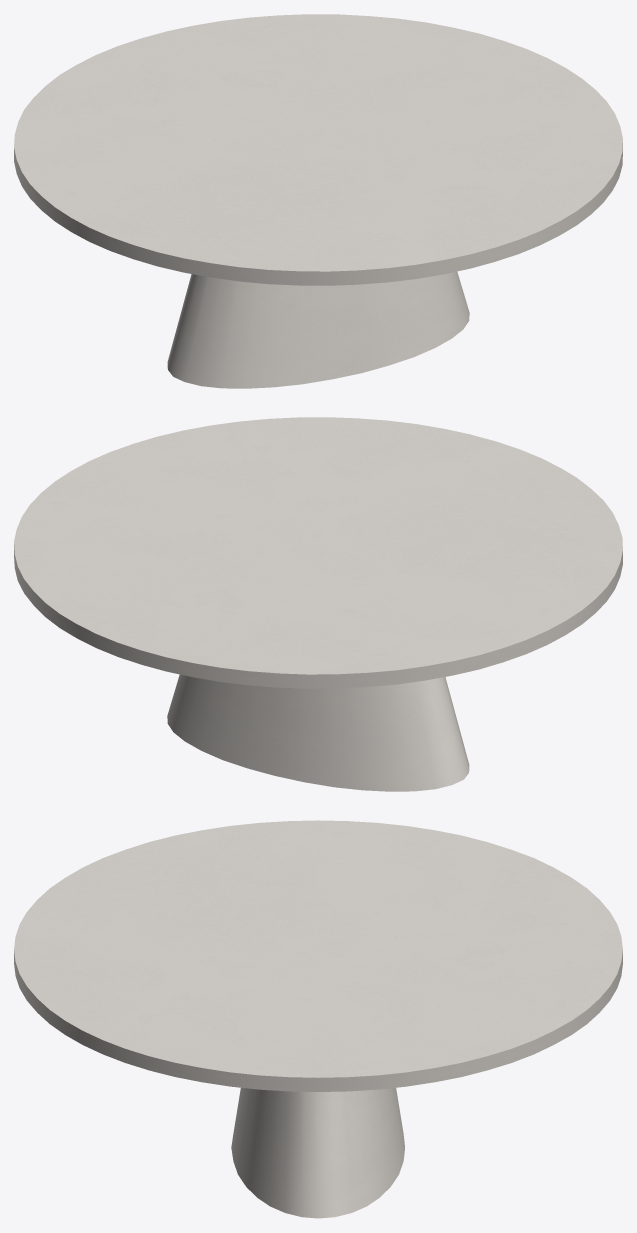
File: pearlwhite_round_standard_eqone.glb
3 views of the same model, one above another, from view 1: azimuth 30°, elevation 25°; view 2: azimuth 150°, elevation 25°; view 3: azimuth 270°, elevation 25° (orthographic).
Visible parts, largest first — view 1: pearlwhite_roundstandard_eqone; view 2: pearlwhite_roundstandard_eqone; view 3: pearlwhite_roundstandard_eqone.
Boxes of the visible parts, x1=… form: pearlwhite_roundstandard_eqone: x1=14, y1=14, x2=622, y2=388; pearlwhite_roundstandard_eqone: x1=14, y1=417, x2=622, y2=791; pearlwhite_roundstandard_eqone: x1=14, y1=820, x2=622, y2=1218.
Bounding box in the file's own units: 6.97 × 2.51 × 6.97.
Materials: 1 (1 with a texture image).
